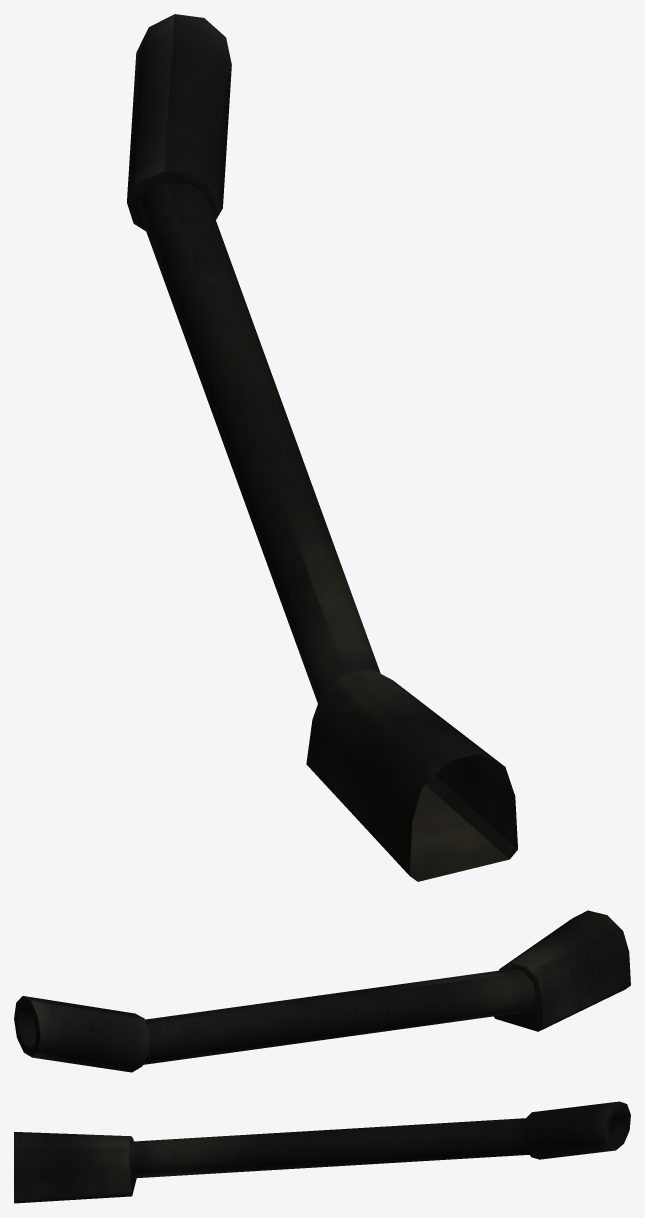
The model's file is canon_bas_demolished.obj.
3 views of the same model, one above another, from view 1: azimuth 30°, elevation 25°; view 2: azimuth 150°, elevation 25°; view 3: azimuth 270°, elevation 25° (orthographic). The views are drawn at different scales.
Parts seen in each view (by area): view 1: submesh0; view 2: submesh0; view 3: submesh0.
Boxes of the visible parts, x1=… form: submesh0: x1=127, y1=14, x2=517, y2=881; submesh0: x1=14, y1=910, x2=630, y2=1072; submesh0: x1=14, y1=1101, x2=630, y2=1203.
Size of the model in its own units: 0.9895 by 0.7693 by 2.56.
Materials: 1 (1 with a texture image).
